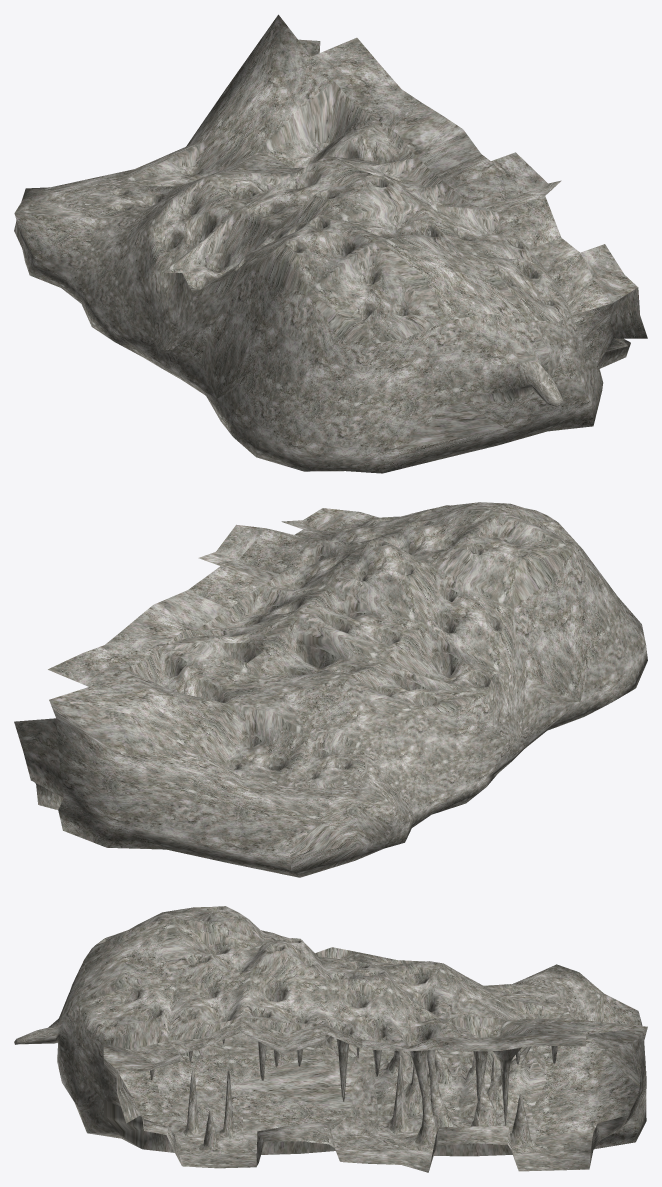
Rendered from DWARF_PALACE_WATER_ROOM_CAVEE.fbx.
The picture shows the model from 3 angles, top to bottom: view 1: azimuth 30°, elevation 25°; view 2: azimuth 150°, elevation 25°; view 3: azimuth 270°, elevation 25°; orthographic projection. The views are drawn at different scales.
Parts seen in each view (by area): view 1: DWARF_PALACE_WATER_ROOM_CAVEE; view 2: DWARF_PALACE_WATER_ROOM_CAVEE; view 3: DWARF_PALACE_WATER_ROOM_CAVEE.
Boxes of the visible parts, x1=… form: DWARF_PALACE_WATER_ROOM_CAVEE: x1=14, y1=14, x2=647, y2=473; DWARF_PALACE_WATER_ROOM_CAVEE: x1=14, y1=502, x2=647, y2=877; DWARF_PALACE_WATER_ROOM_CAVEE: x1=14, y1=906, x2=647, y2=1172.
Bounding box in the file's own units: 313346 × 143128 × 528145.
1 material, 1 textured.
